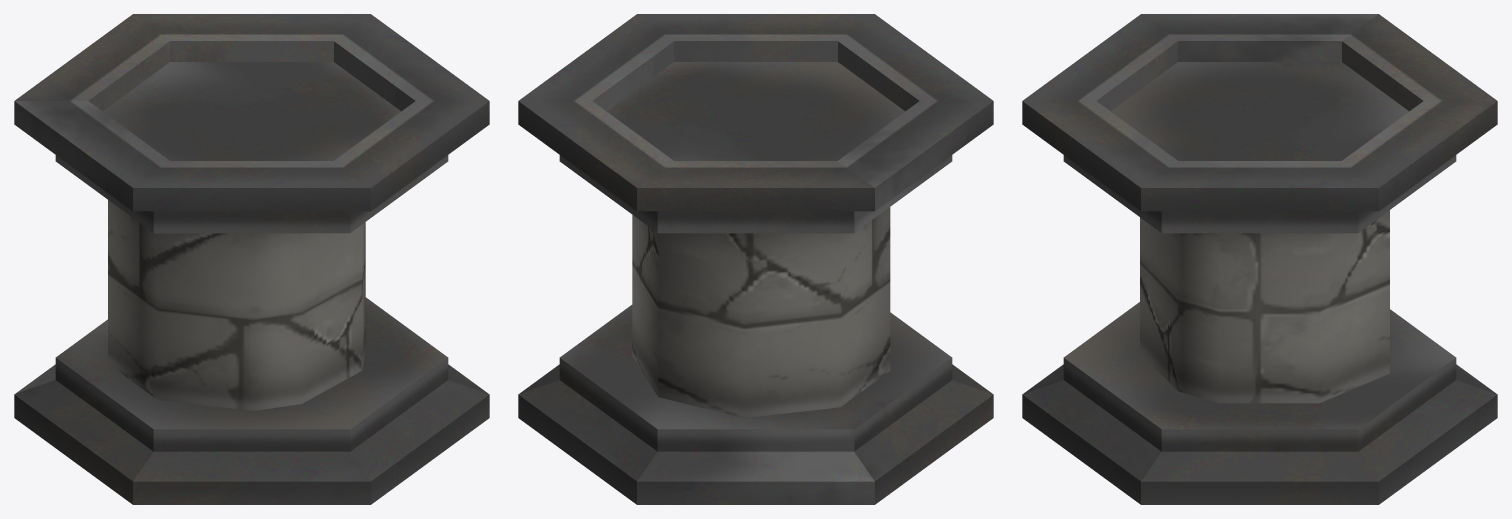
Rendered from SM_pillarHuge1.fbx.
3 renders of one model, left to right at view 1: azimuth 30°, elevation 25°; view 2: azimuth 150°, elevation 25°; view 3: azimuth 270°, elevation 25°, orthographic.
Parts seen in each view (by area): view 1: SM_pillarHuge1; view 2: SM_pillarHuge1; view 3: SM_pillarHuge1.
Boxes of the visible parts, x1=… form: SM_pillarHuge1: x1=14, y1=14, x2=489, y2=504; SM_pillarHuge1: x1=518, y1=14, x2=993, y2=504; SM_pillarHuge1: x1=1022, y1=14, x2=1497, y2=504.
Bounding box in the file's own units: 1.35 × 1.15 × 1.56.
